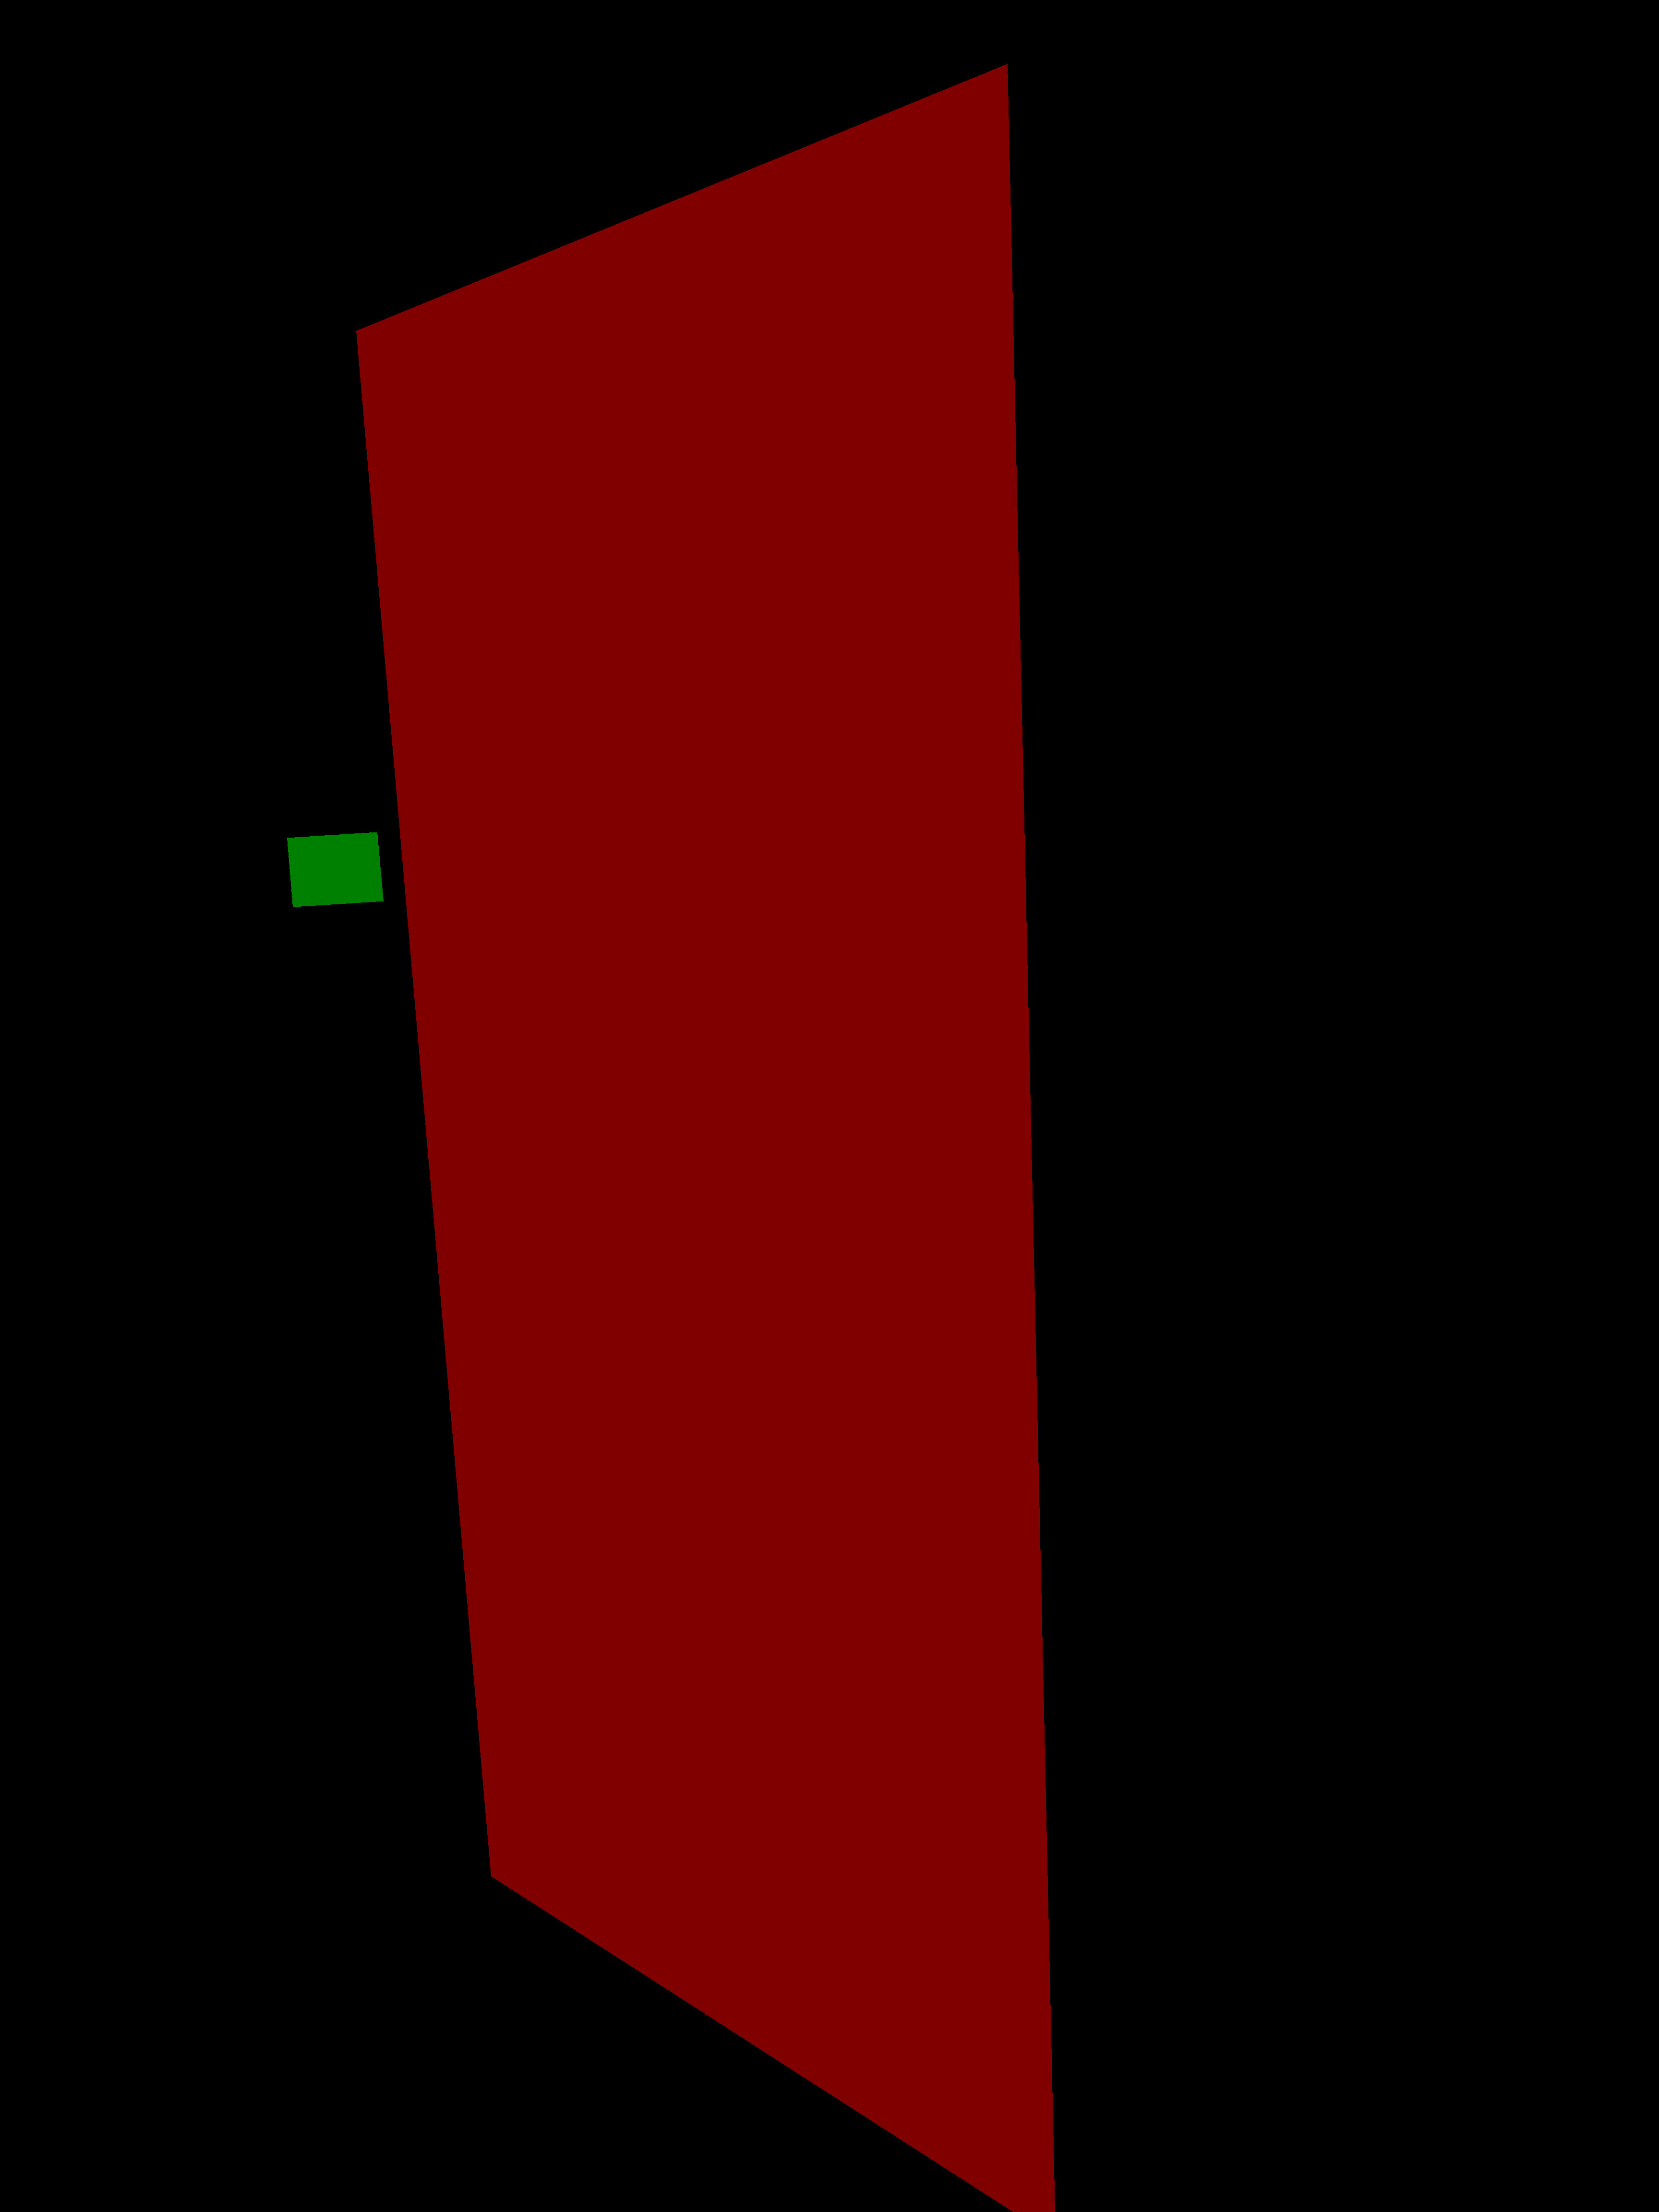door: (355, 64, 1054, 2212)
sign: (288, 833, 383, 907)
